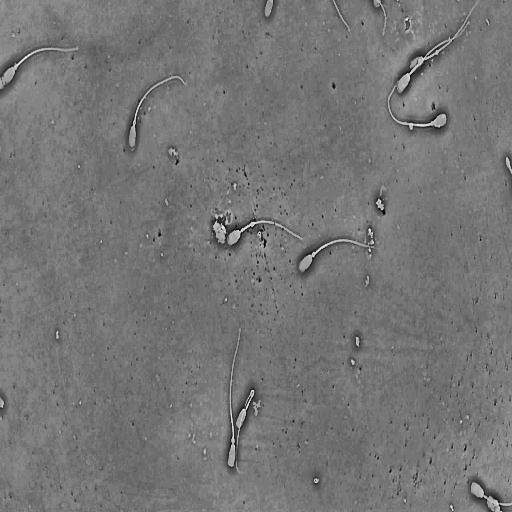dirt-particles: (212, 209, 233, 245), (375, 196, 386, 216), (355, 334, 361, 349), (365, 274, 370, 287), (350, 358, 356, 367), (409, 121, 414, 131)
distal-droplet: (250, 221, 255, 228), (435, 49, 439, 55)
folded-tail: (235, 390, 255, 476)
normal: (395, 19, 470, 96), (408, 0, 478, 75), (128, 71, 188, 151), (1, 45, 80, 88), (297, 235, 379, 275), (387, 81, 448, 130), (225, 217, 305, 249), (227, 326, 243, 470), (235, 386, 256, 475), (469, 479, 512, 508)
proximal-droplet: (13, 62, 18, 71), (430, 121, 434, 127), (312, 251, 315, 258), (133, 120, 136, 126), (232, 438, 235, 444)
